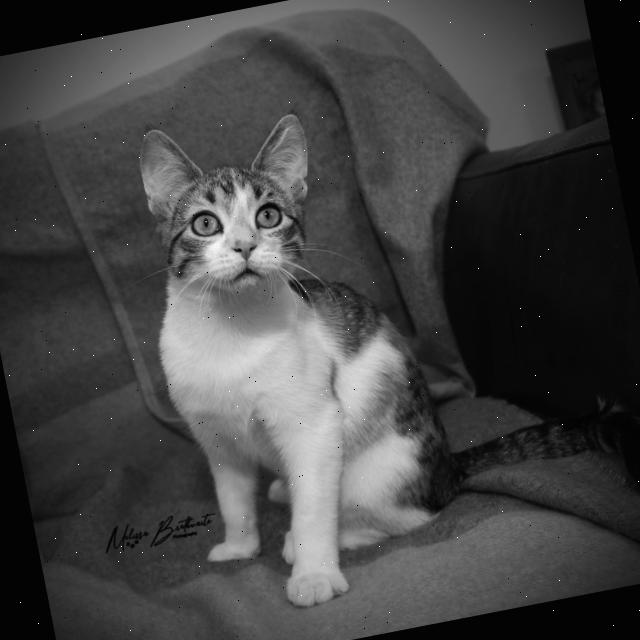calico_cat: (106, 85, 352, 334)
